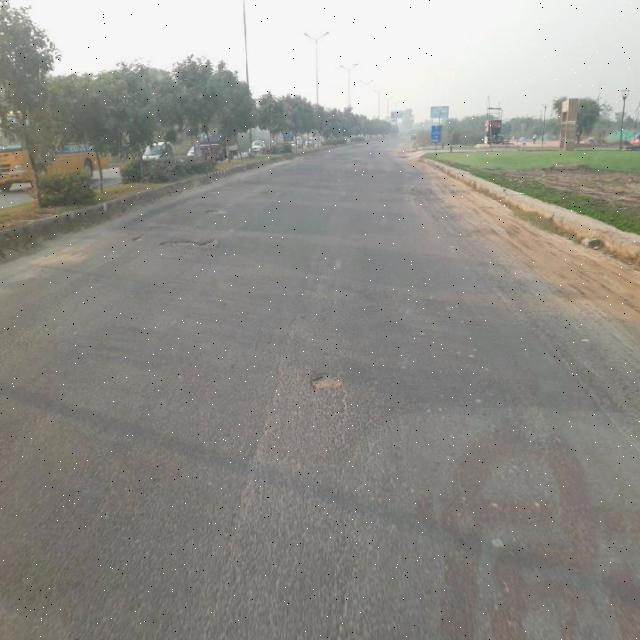D20: (181, 338, 433, 626)
D40: (307, 368, 350, 395), (156, 233, 218, 251), (199, 204, 232, 220)
